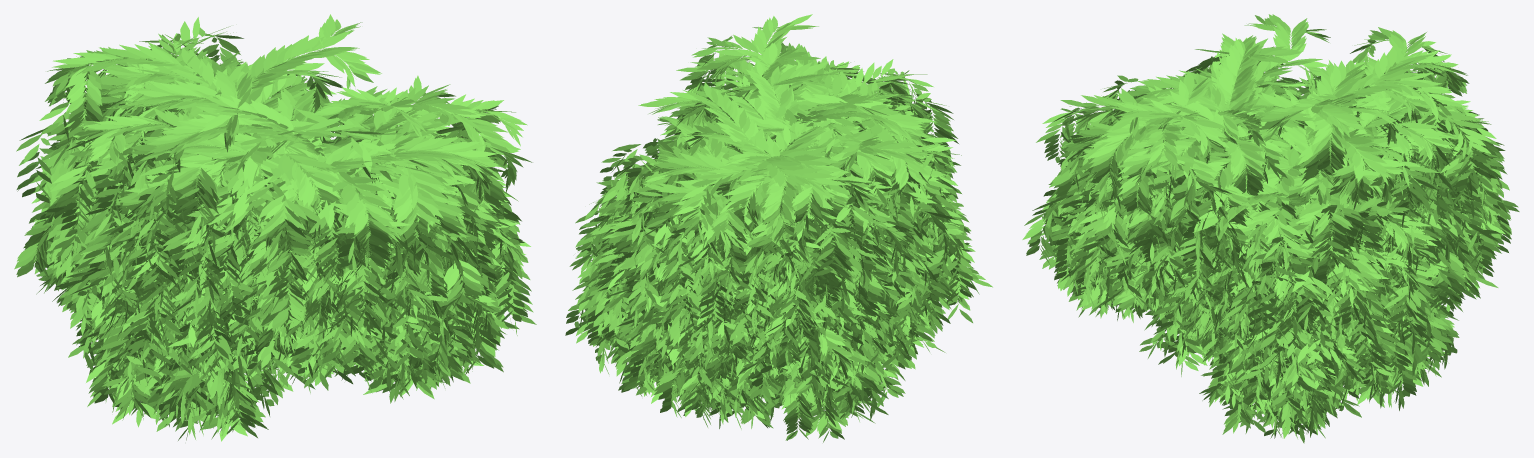
File: brush.fbx
3 renders of one model, left to right at view 1: azimuth 30°, elevation 25°; view 2: azimuth 150°, elevation 25°; view 3: azimuth 270°, elevation 25°, orthographic. The views are drawn at different scales.
Parts seen in each view (by area): view 1: leaves; view 2: leaves; view 3: leaves.
Part boxes in pixels (bbox=[...]): leaves: bbox=[14, 14, 536, 441]; leaves: bbox=[565, 14, 992, 442]; leaves: bbox=[1022, 14, 1519, 443].
Size of the model in its own units: 0.5637 by 0.4249 by 0.6284.
